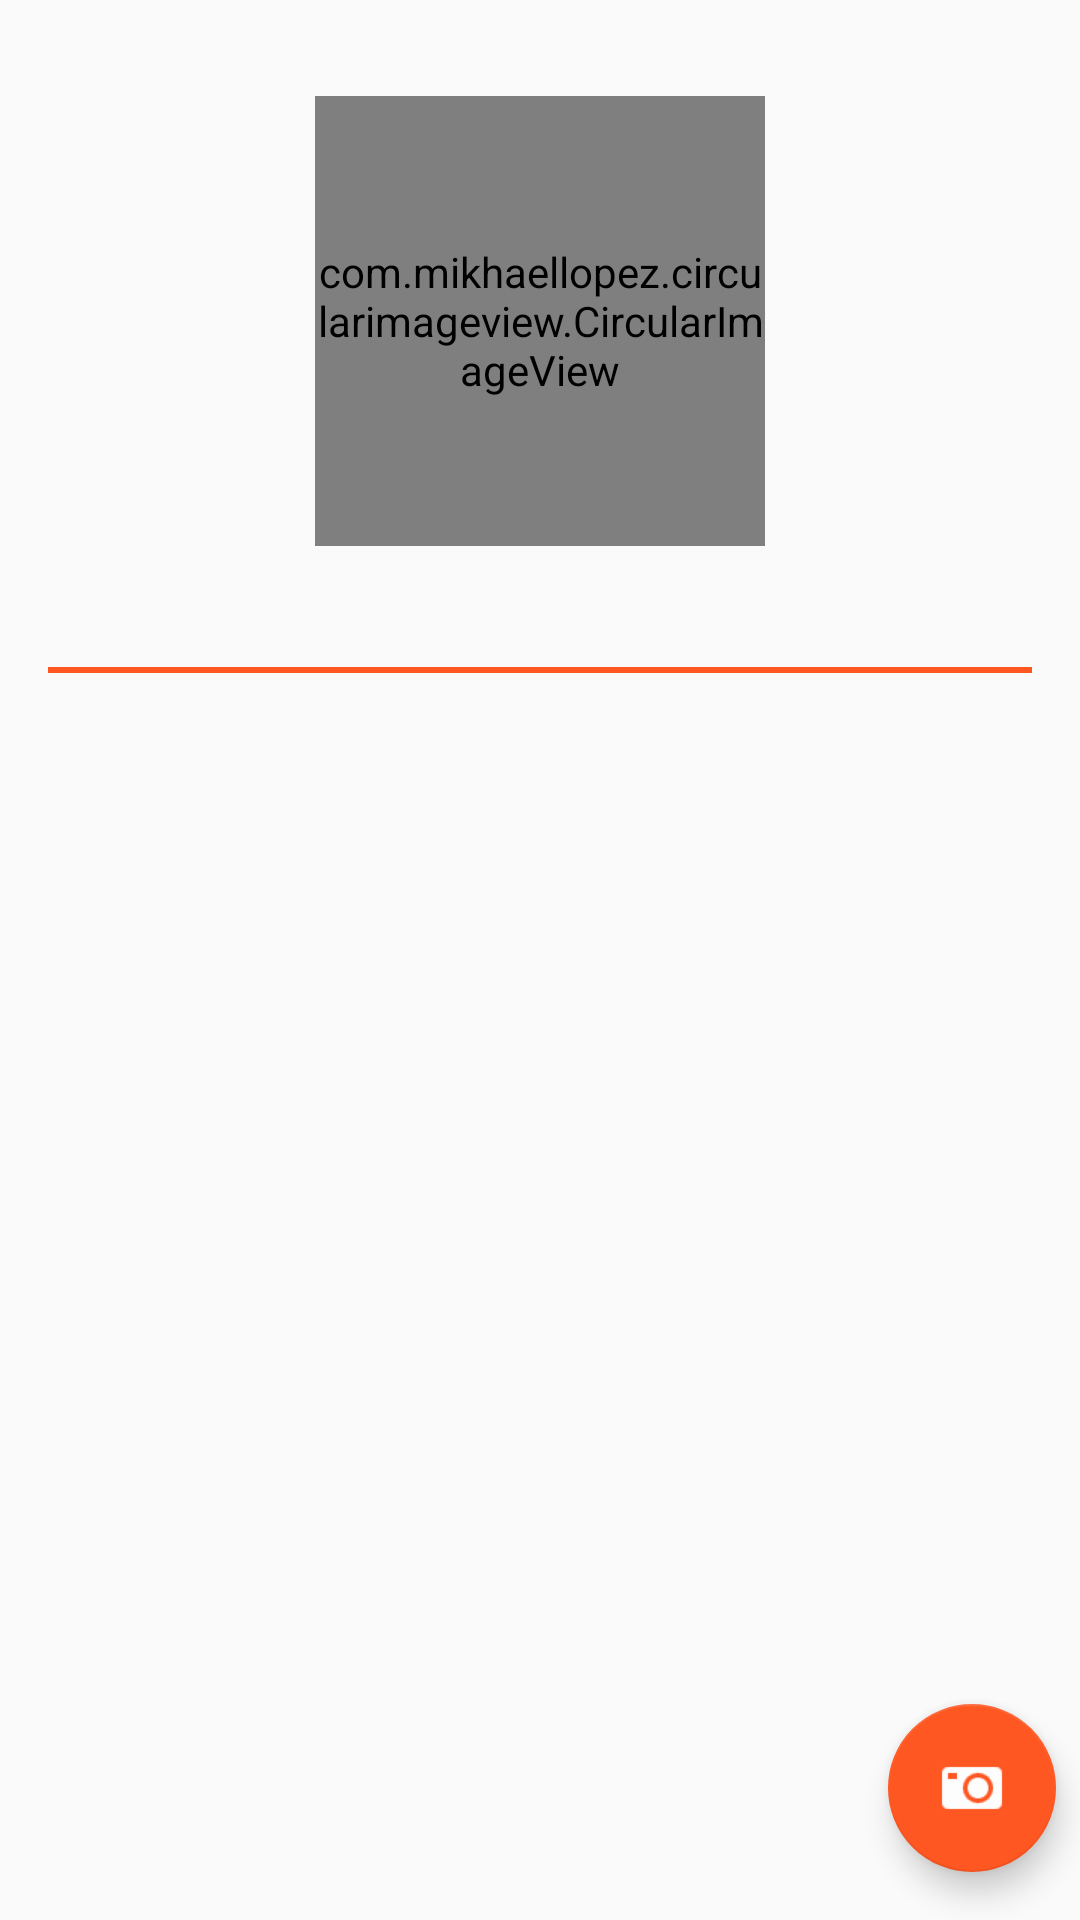

Locate icon controls on the screen. Image size 1080×1920, boxes as bbox(x1, y1, x2, y2).
camara: bbox(888, 1704, 1056, 1872)
